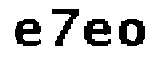7: (49, 5, 83, 51)
e: (10, 18, 46, 51), (82, 17, 113, 51)
o: (119, 15, 150, 52)
